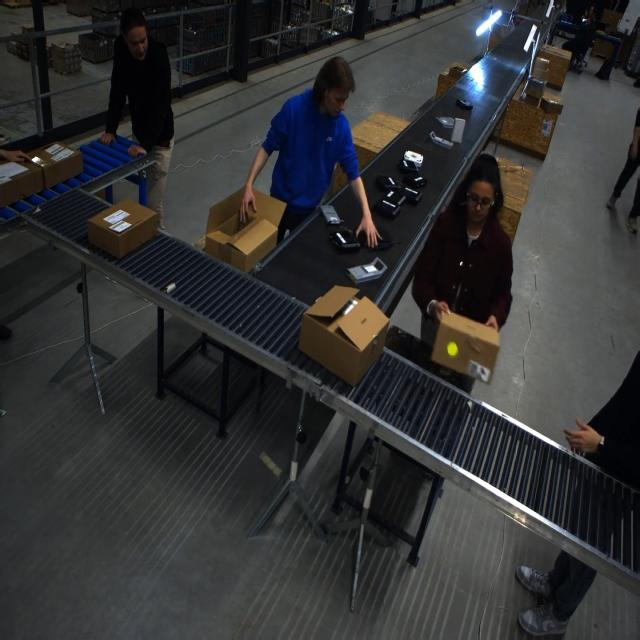box: (300, 291, 387, 385), (203, 185, 284, 273), (431, 311, 499, 381), (86, 200, 159, 260), (25, 141, 83, 190), (1, 155, 43, 210)
product: (346, 258, 387, 284), (373, 194, 403, 220), (330, 231, 360, 254), (319, 204, 341, 226), (401, 186, 424, 206), (375, 175, 401, 192), (429, 132, 453, 150), (398, 158, 421, 175), (402, 173, 427, 188), (403, 150, 423, 166), (435, 116, 455, 128), (455, 99, 473, 110)
